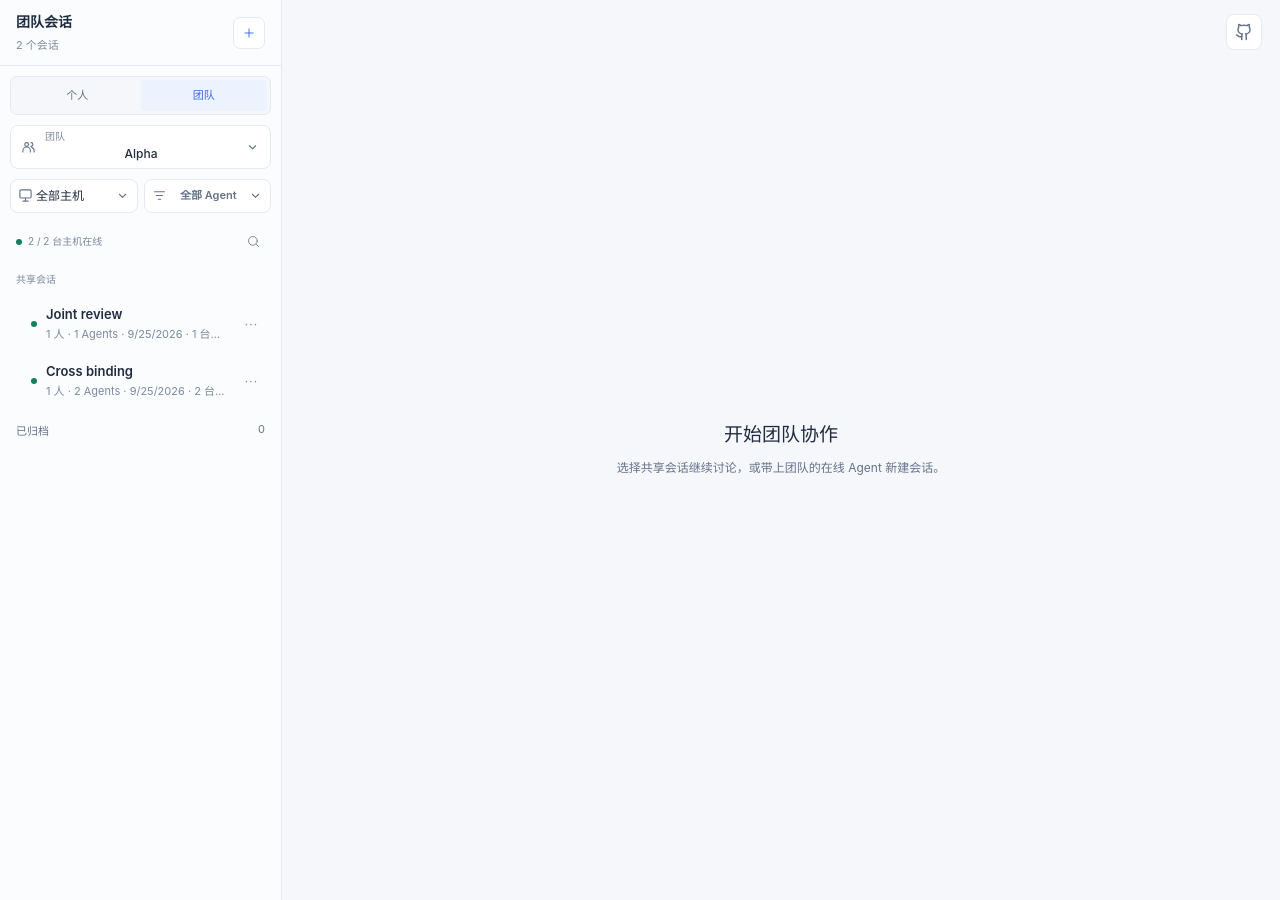
team session list › requires daemon and provider to match the same binding when filtering
Click the button with class "host-trigger" at (74, 196), box [10,178,138,212]
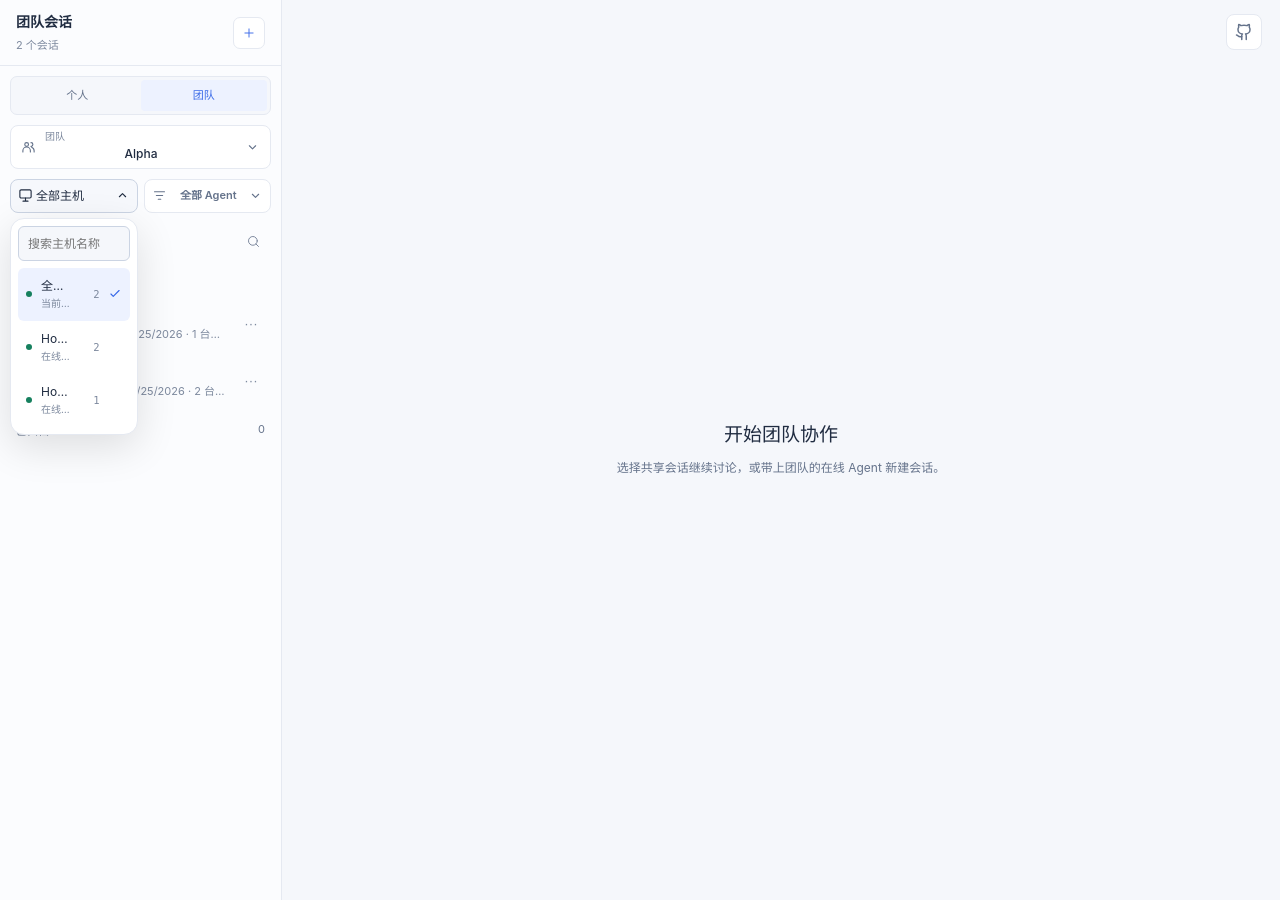
Click the button "Host One 在线 · d1 2" at (74, 347), box [18,320,130,374]
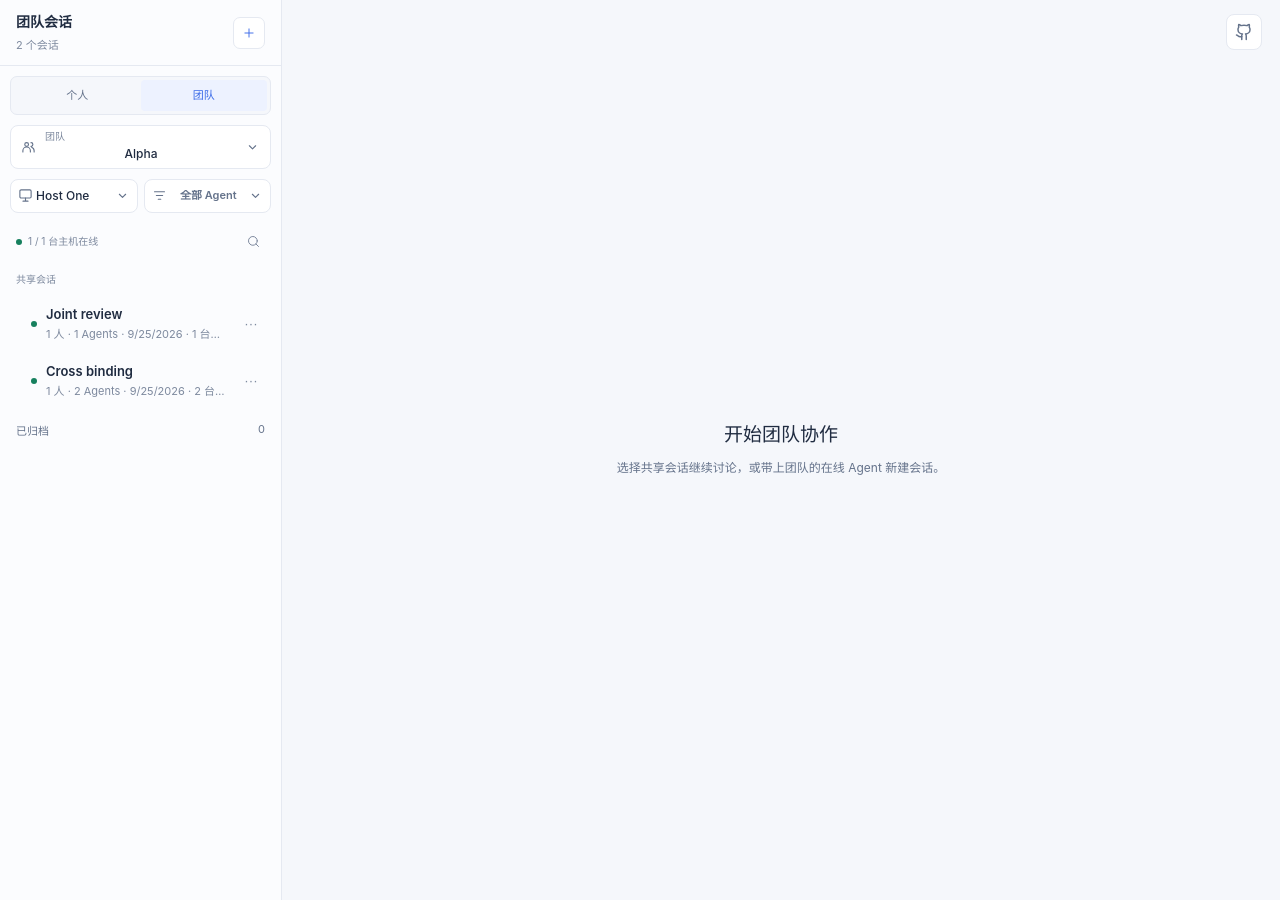
Click the button with class "filter-trigger" showing "全部 Agent" at (207, 196), box [144,178,271,212]
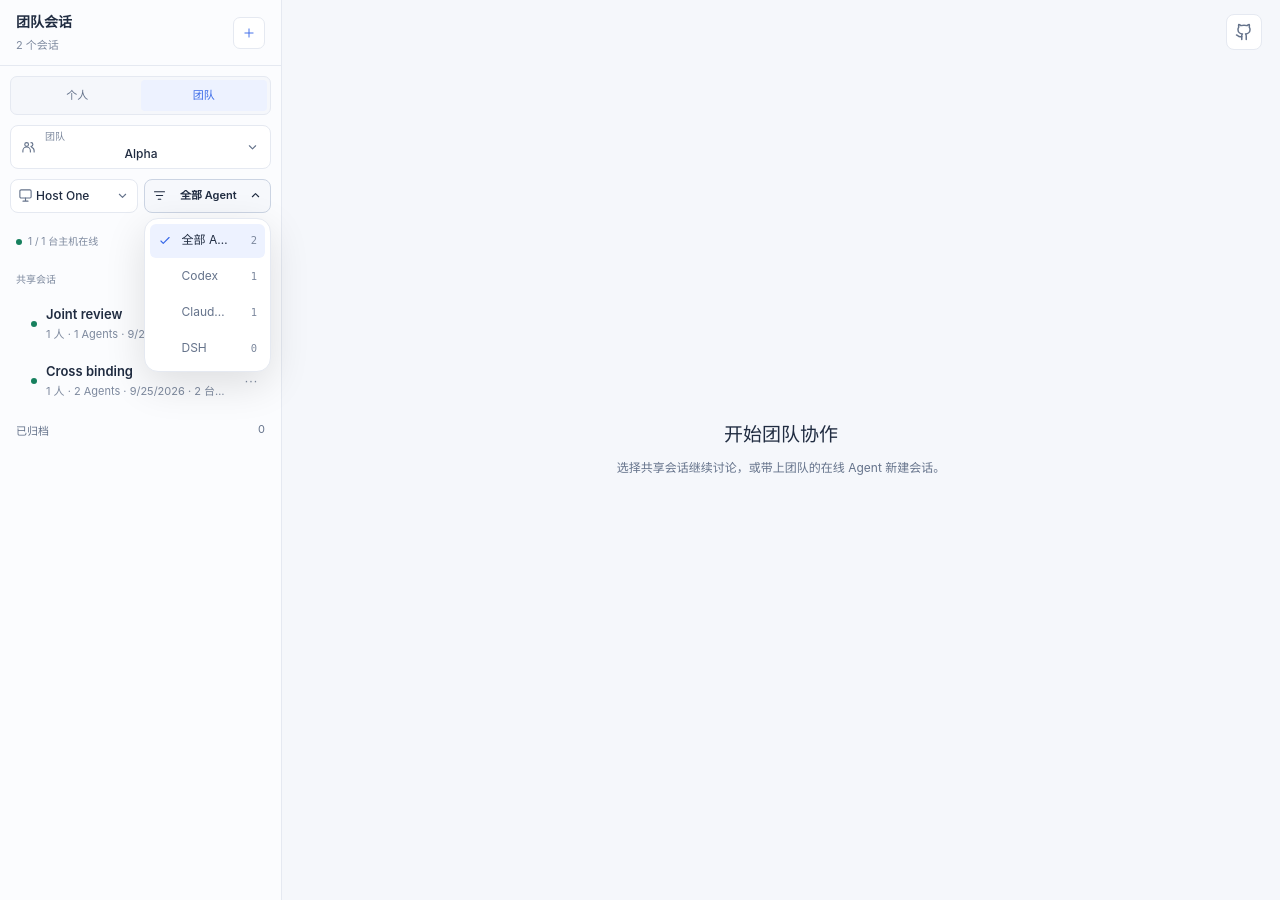
Click the menu item "Codex 1" at (207, 276), box [150,260,265,294]
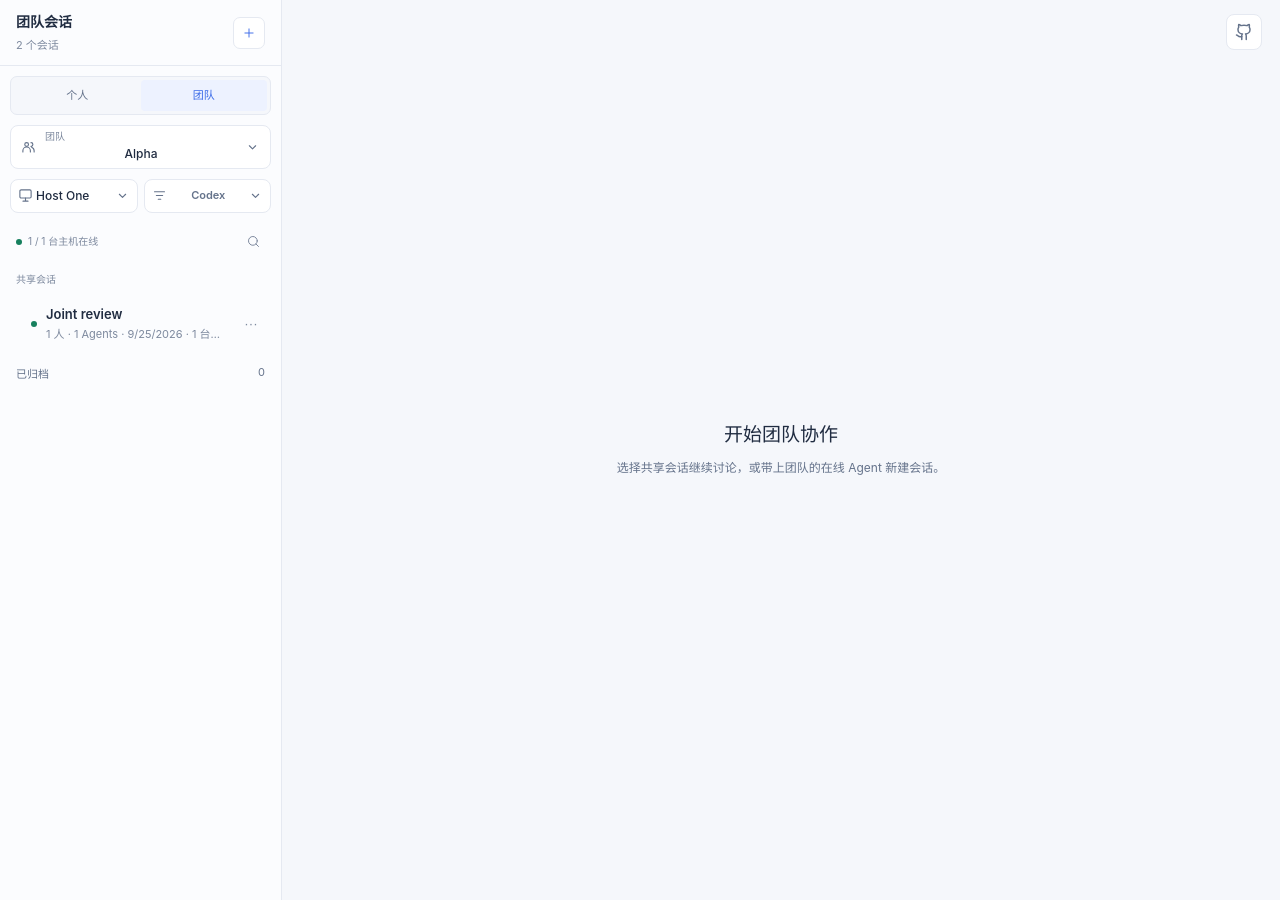
Expected: the text "Joint review" is shown, [46,306,122,322]
Result: the text "Cross binding" is gone
